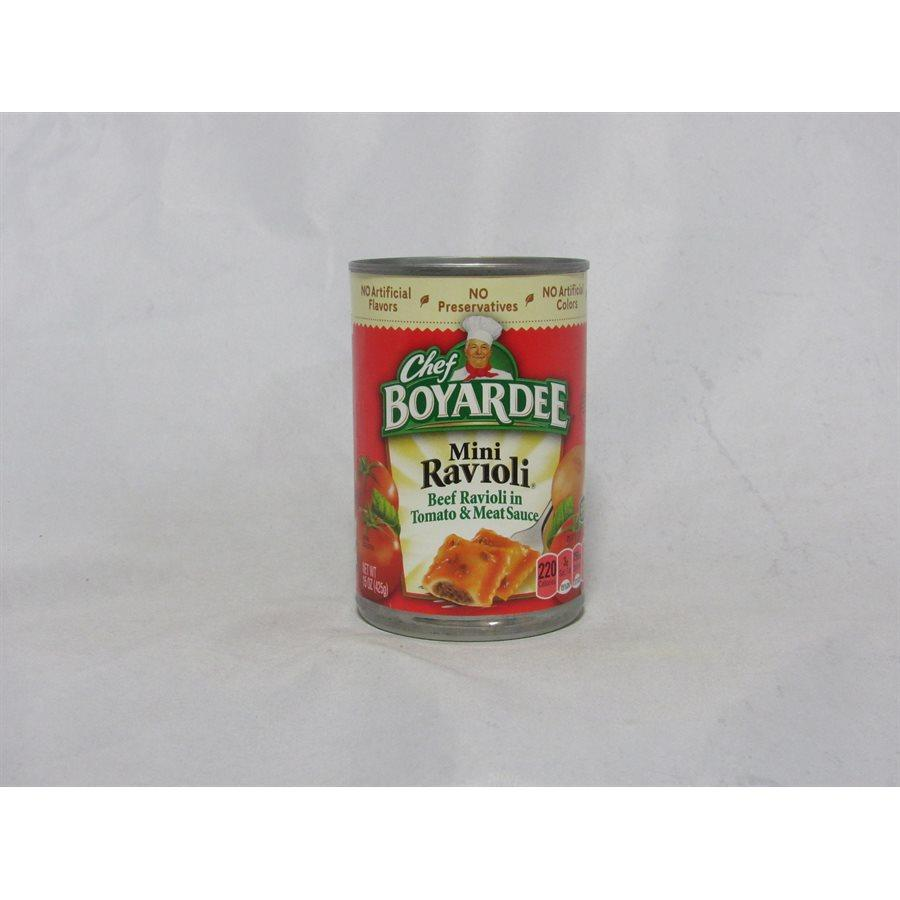metal: (351, 258, 587, 640)
